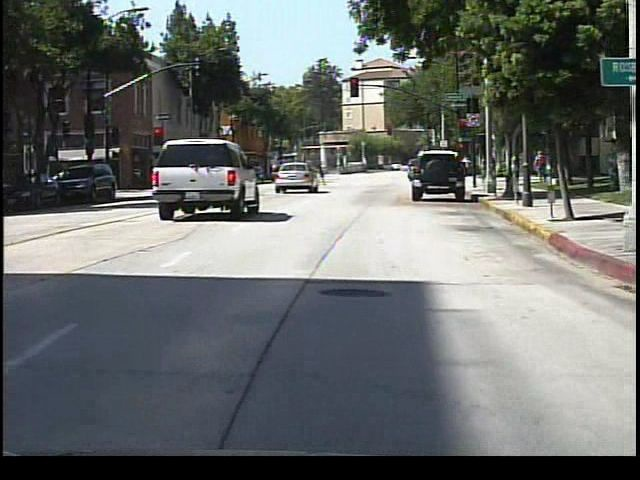person: (312, 156, 333, 190), (535, 148, 550, 186), (465, 154, 472, 180)
